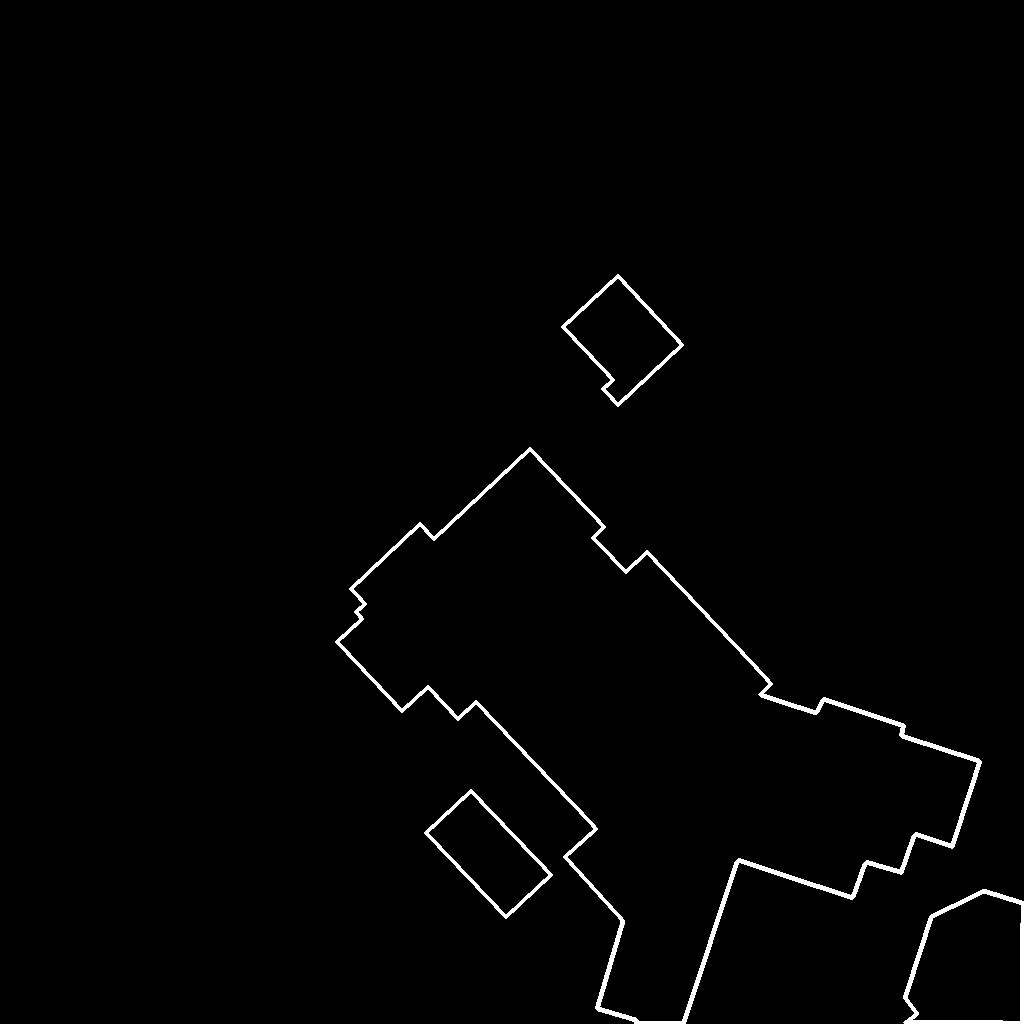building: (337, 449, 1024, 1024), (426, 791, 552, 918), (563, 276, 683, 406)
